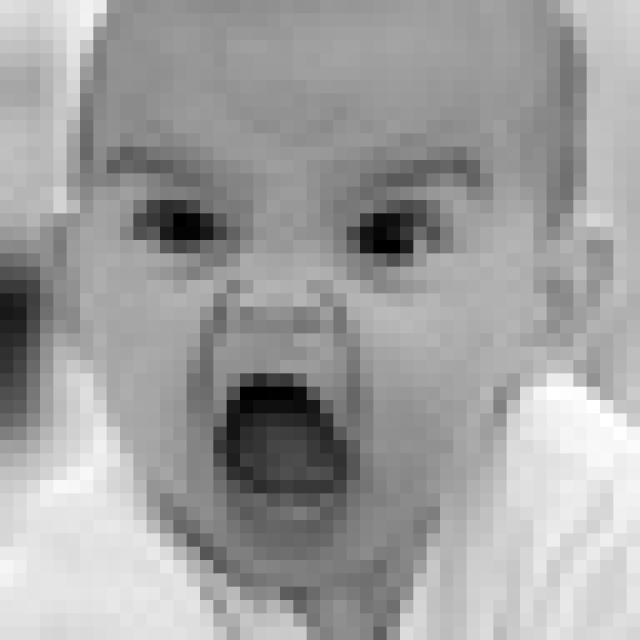angry: (86, 134, 504, 520)
